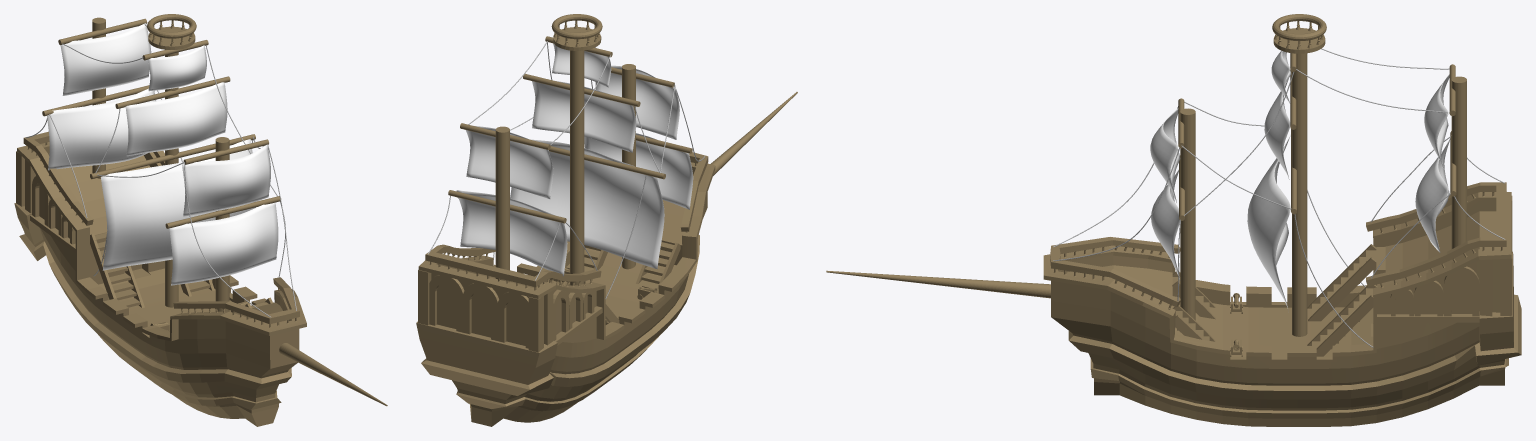
File: MainShip.fbx
3 renders of one model, left to right at view 1: azimuth 30°, elevation 25°; view 2: azimuth 150°, elevation 25°; view 3: azimuth 270°, elevation 25°, orthographic. The views are drawn at different scales.
Visible parts, largest first — view 1: Ship_Body, Sails_001, Sails_005, Sails_002, Sails_004, Sails_003, Sails_006, Mast_2, Mast_1, Sails_007, Fencing_2, Ladders_2 (+3 smaller); view 2: Ship_Body, Sails_001, Mast_2, Sails_004, Sails_002, Sails_003, Mast_3, Sails_005, Sails_006, Fencing_1, Mast_1, Sails_007 (+2 smaller); view 3: Ship_Body, Mast_2, Mast_1, Sails_001, Fencing_1, Mast_3, Fencing_2, Prow, Sails_004, Ladders_2, Ladders_1, Sails_005 (+3 smaller).
Part boxes in pixels (x1=…): Ship_Body: x1=14, y1=142, x2=306, y2=426; Sails_001: x1=100, y1=139, x2=255, y2=270; Sails_005: x1=169, y1=202, x2=278, y2=285; Sails_002: x1=125, y1=82, x2=227, y2=156; Sails_004: x1=47, y1=88, x2=155, y2=170; Sails_003: x1=60, y1=23, x2=151, y2=95; Sails_006: x1=182, y1=144, x2=270, y2=216; Mast_2: x1=90, y1=14, x2=255, y2=307; Mast_1: x1=165, y1=137, x2=281, y2=311; Sails_007: x1=148, y1=45, x2=206, y2=91; Fencing_2: x1=173, y1=277, x2=299, y2=327; Ladders_2: x1=90, y1=232, x2=144, y2=307; Ship_Body: x1=416, y1=162, x2=715, y2=426; Sails_001: x1=510, y1=139, x2=664, y2=269; Mast_2: x1=523, y1=14, x2=665, y2=285; Sails_004: x1=456, y1=190, x2=567, y2=276; Sails_002: x1=532, y1=80, x2=636, y2=152; Sails_003: x1=466, y1=125, x2=553, y2=198; Mast_3: x1=448, y1=123, x2=566, y2=282; Sails_005: x1=584, y1=133, x2=693, y2=209; Sails_006: x1=595, y1=65, x2=679, y2=139; Fencing_1: x1=425, y1=244, x2=601, y2=290; Mast_1: x1=611, y1=64, x2=692, y2=269; Sails_007: x1=552, y1=43, x2=611, y2=87; Ship_Body: x1=1043, y1=192, x2=1521, y2=426; Mast_2: x1=1272, y1=14, x2=1326, y2=336; Mast_1: x1=1178, y1=98, x2=1195, y2=320; Sails_001: x1=1247, y1=134, x2=1290, y2=312; Fencing_1: x1=1366, y1=182, x2=1506, y2=287; Mast_3: x1=1449, y1=64, x2=1466, y2=248; Fencing_2: x1=1050, y1=237, x2=1180, y2=309; Prow: x1=826, y1=270, x2=1050, y2=298; Sails_004: x1=1415, y1=136, x2=1450, y2=252; Ladders_2: x1=1307, y1=244, x2=1376, y2=321; Ladders_1: x1=1307, y1=285, x2=1377, y2=356; Sails_005: x1=1151, y1=169, x2=1180, y2=280.
Size of the model in its own units: 1515 by 3200 by 5078.
